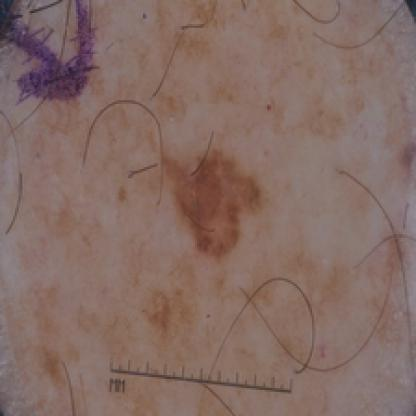malignant: (150, 143, 268, 266)
